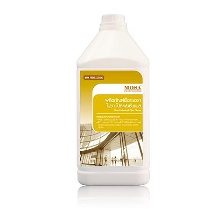cleaning_solution: (72, 11, 154, 190)
